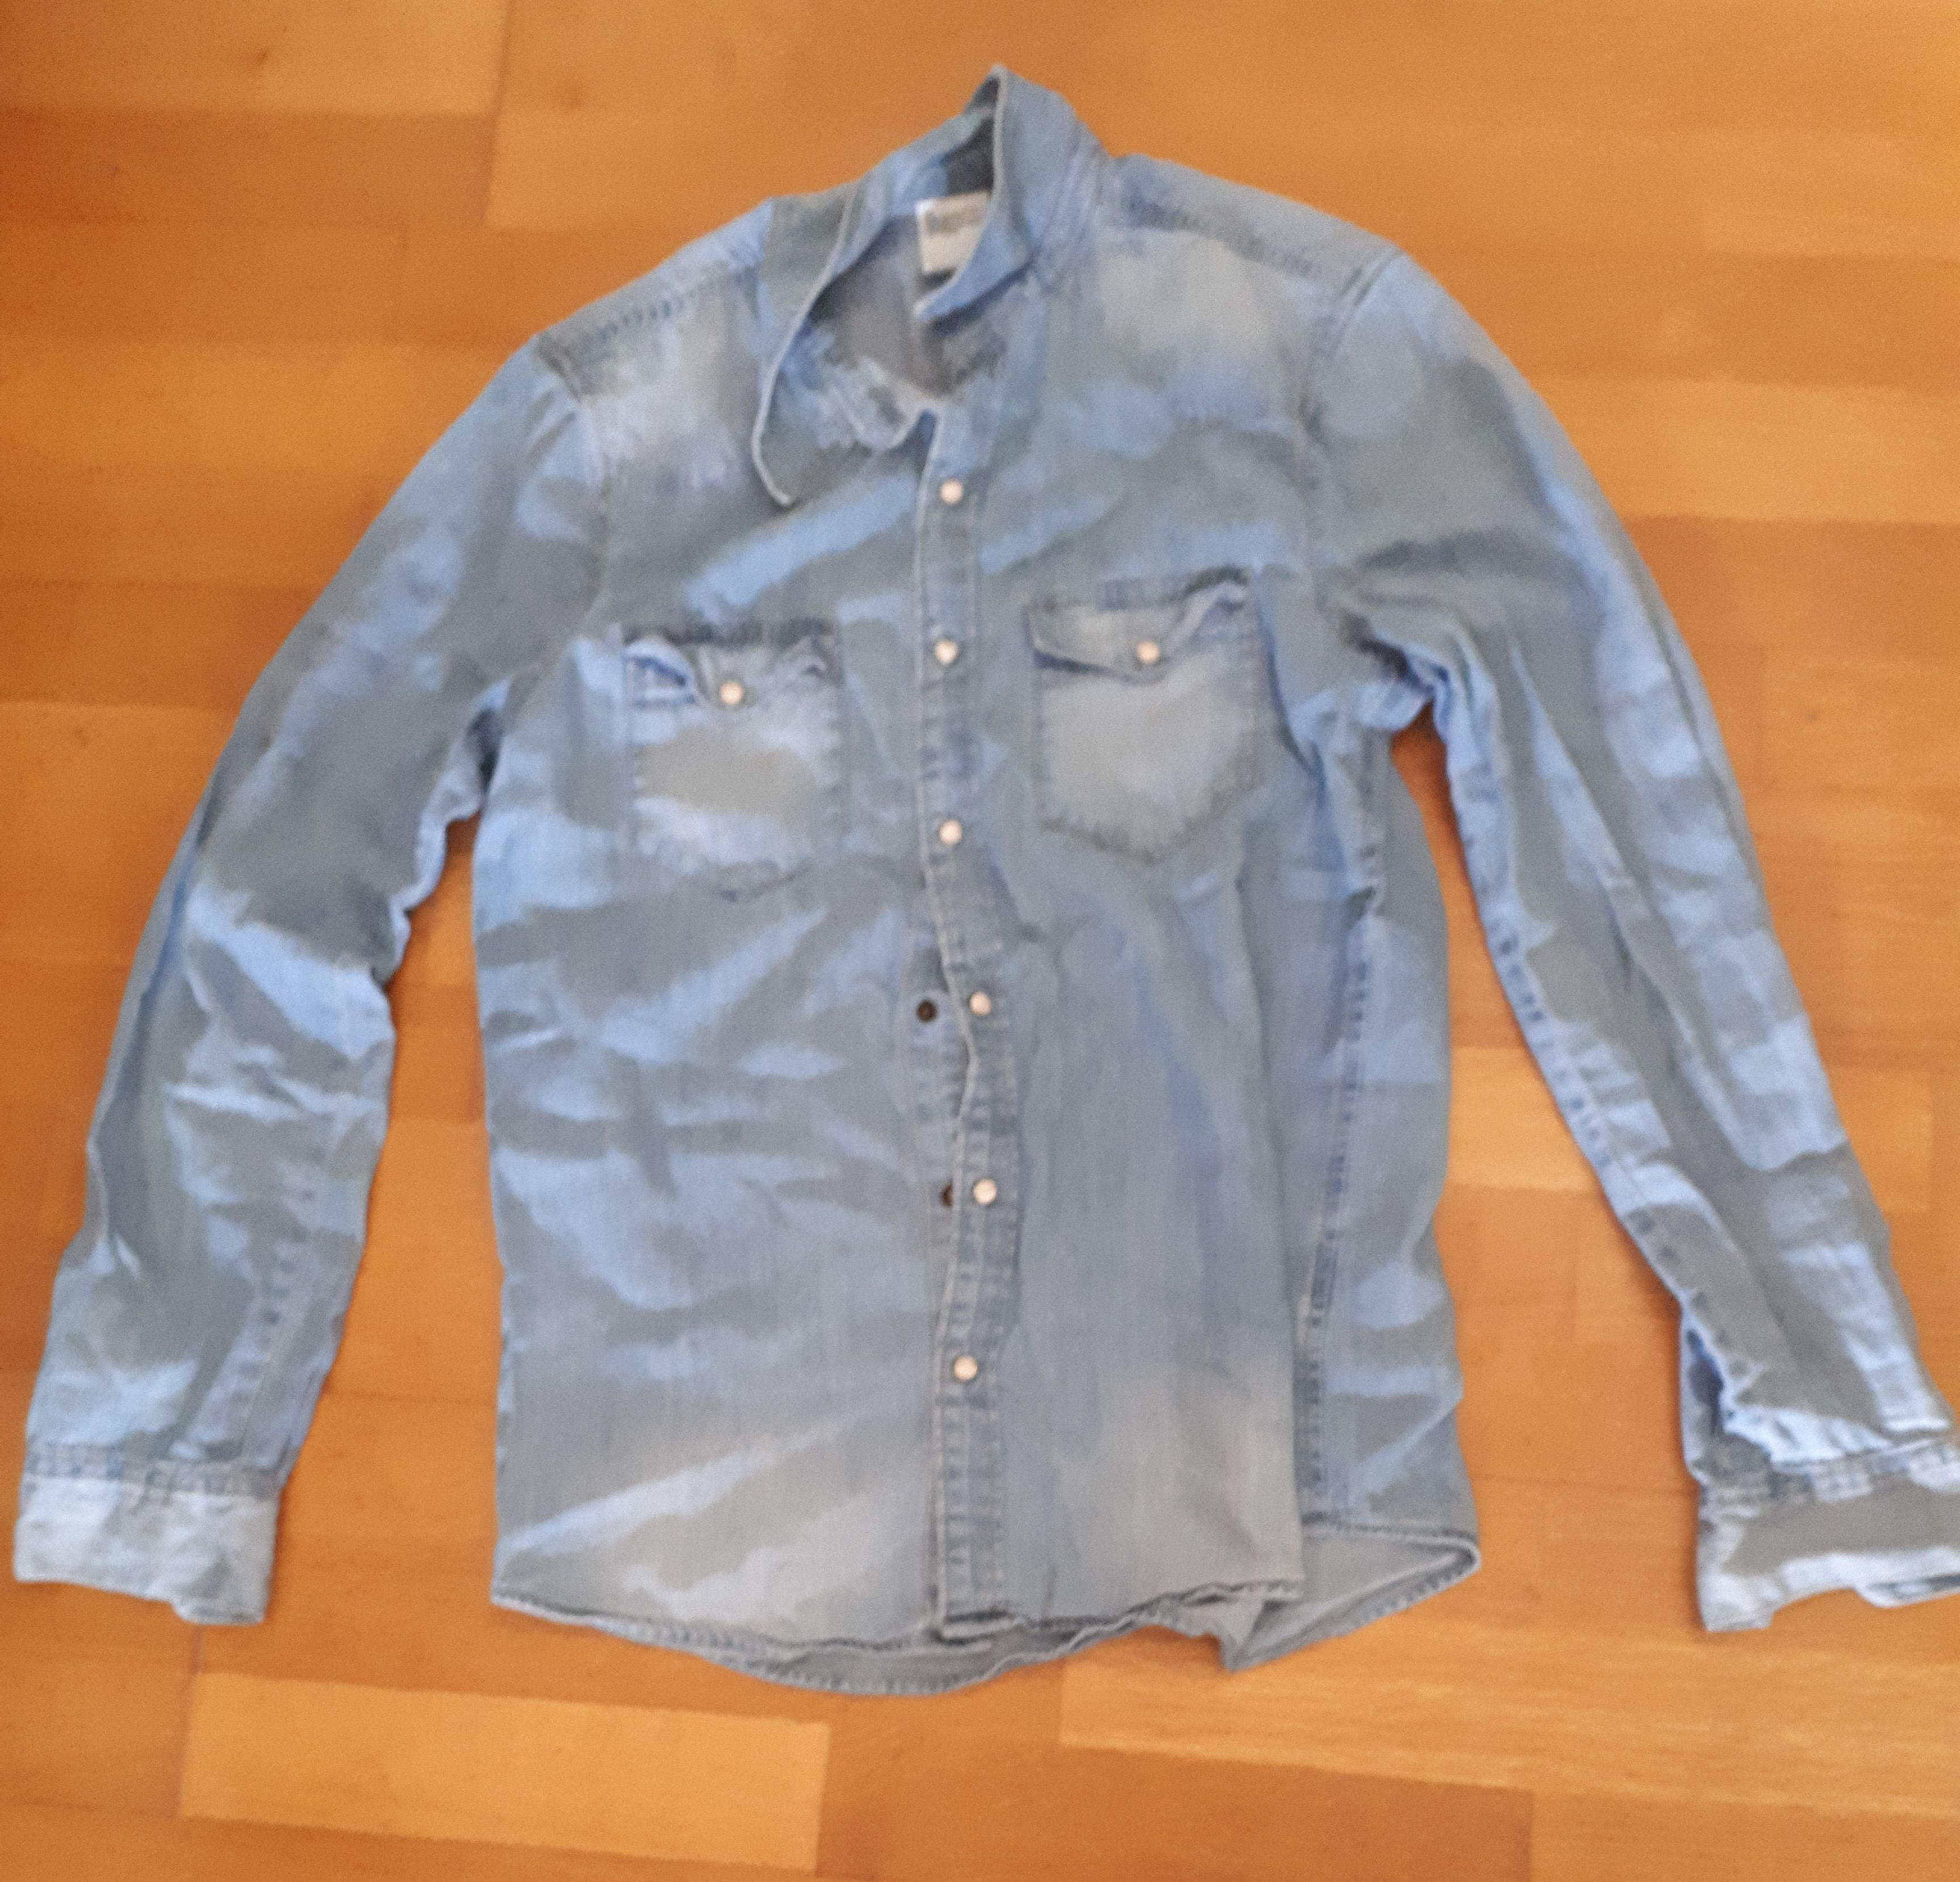clothes: (51, 74, 1948, 1684)
